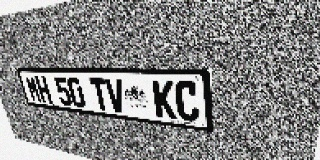0: (66, 77, 86, 108)
5: (54, 77, 73, 107)
C: (174, 81, 200, 123)
H: (34, 76, 53, 104)
K: (152, 80, 177, 120)
M: (25, 76, 42, 103)
T: (89, 78, 110, 111)
V: (105, 78, 127, 113)
